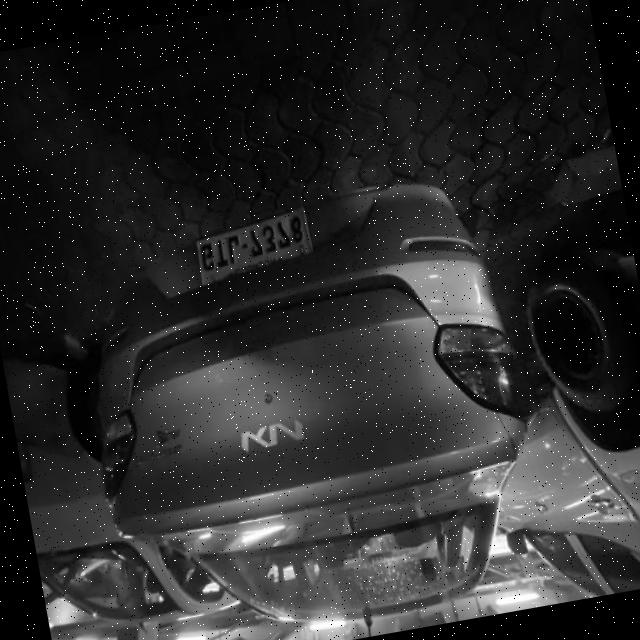Placa: (198, 210, 310, 284)
